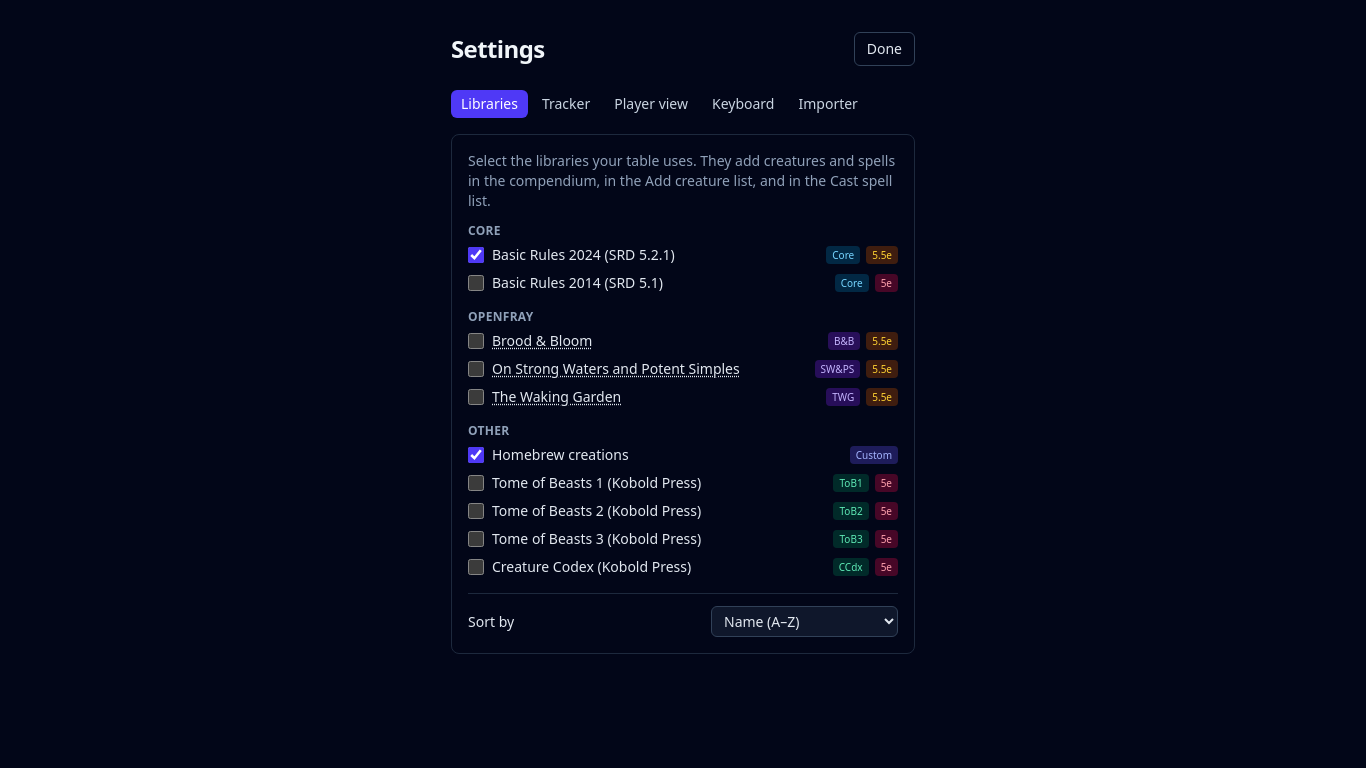
Scenario: SettingsPanel — the player view › keeps the rolls description behind its ? until asked
Click the tab "Player view" at (651, 104), box [604,90,698,118]
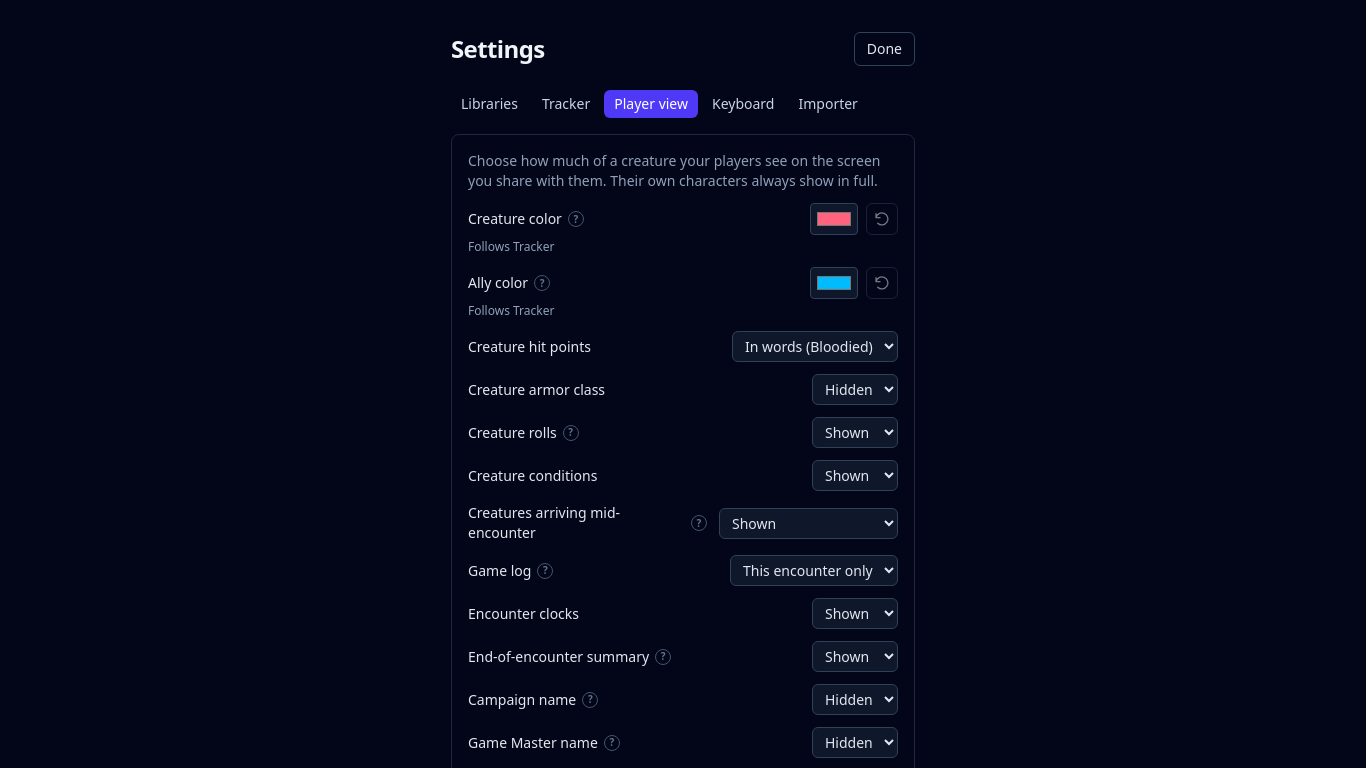
Hover over the button named "What this does" at (571, 432), box [563,424,579,440]
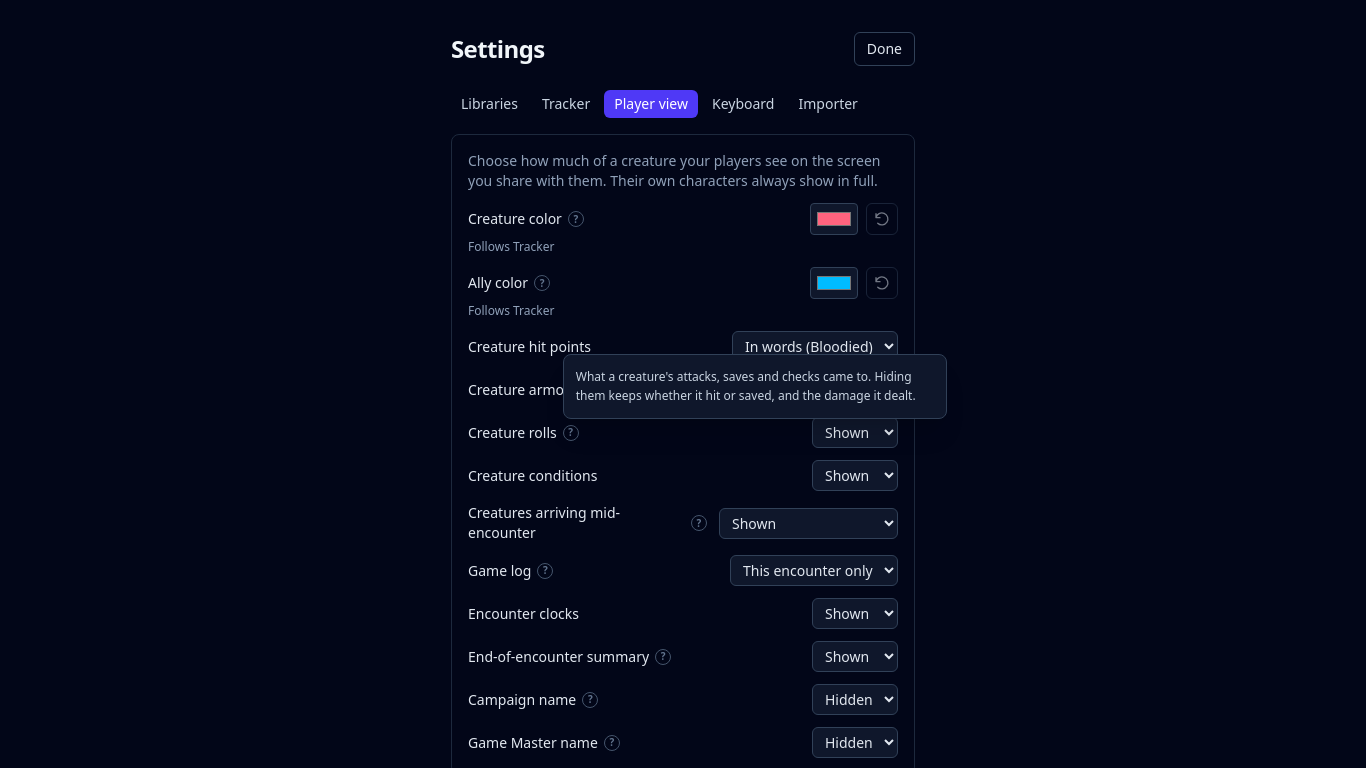
Expected: the text "keeps whether it hit or saved" is shown, [576,368,916,404]
